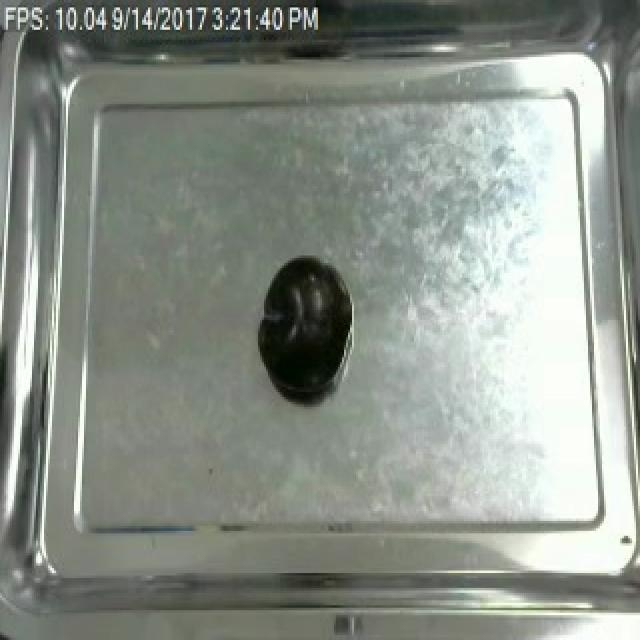Fruit: (256, 253, 348, 402)
